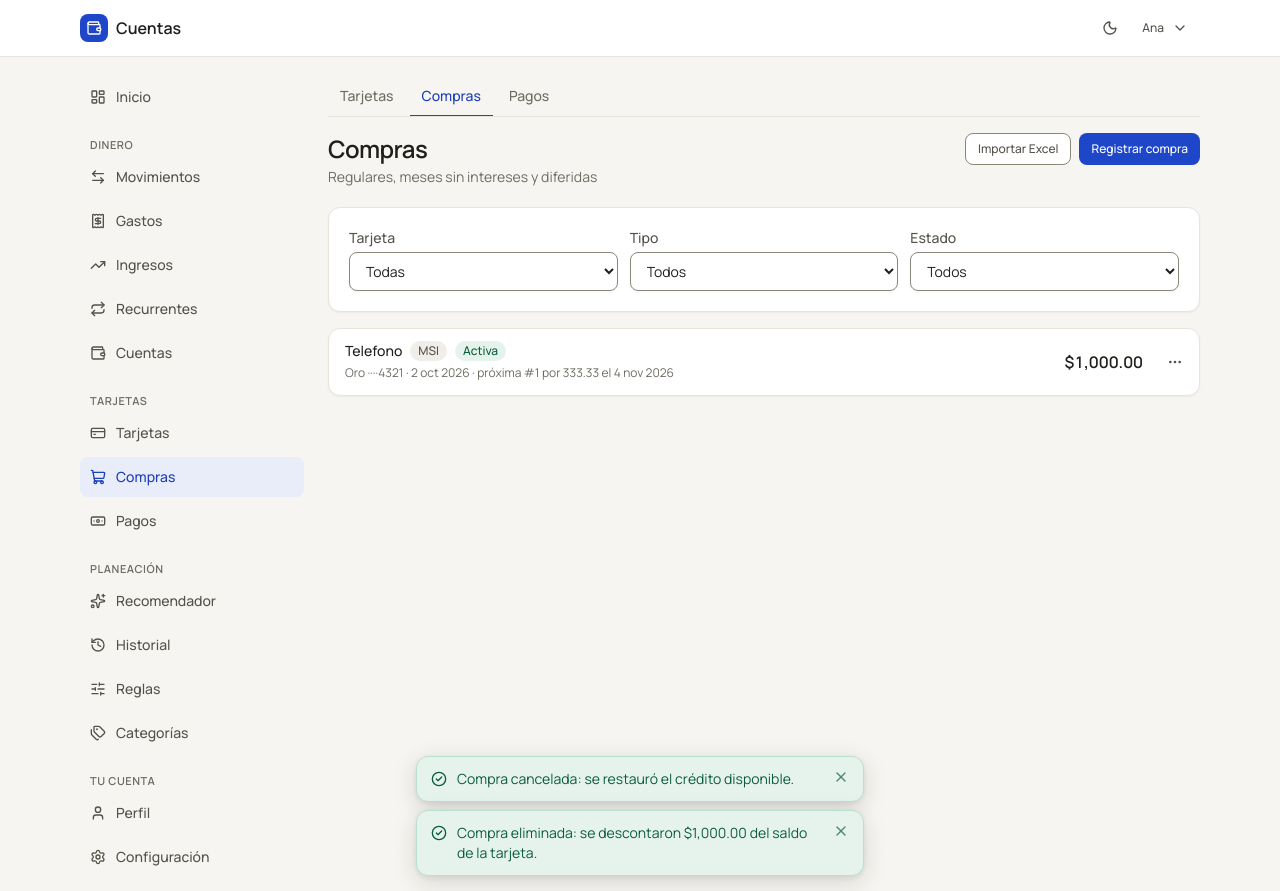
Test case: compras › una compra sin pagos ofrece Cancelar y Eliminar en el menú de la fila
Click the button named "Más acciones de Telefono": (1175, 362) [1159,346,1191,378]
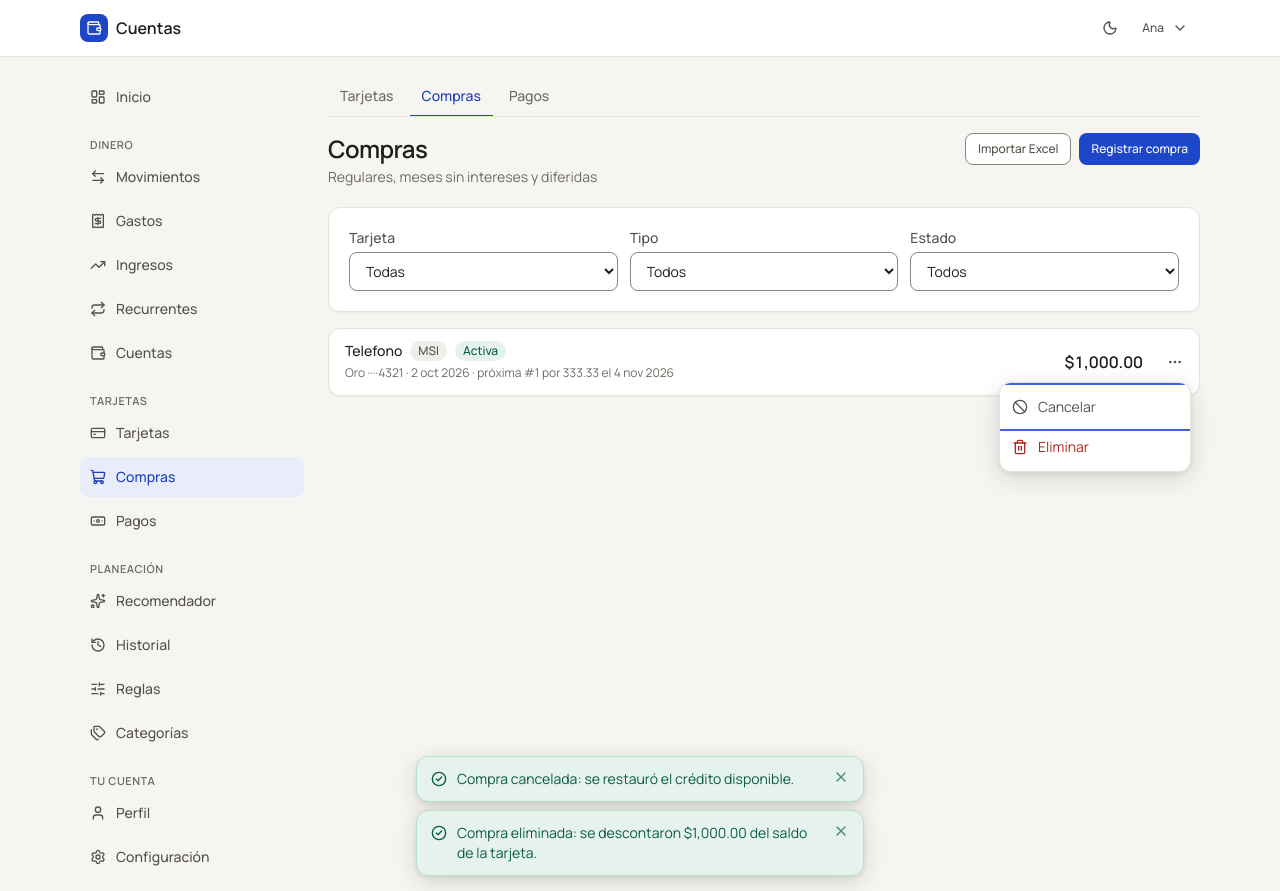
Result: the menu item "Cancelar" is shown at [1000,387,1190,427]
Result: the menu item "Eliminar" is shown at [1000,427,1190,467]
